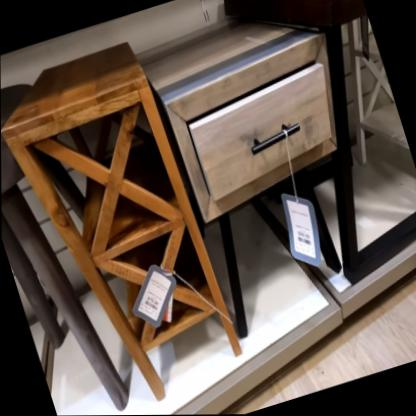Nightstand: (128, 0, 396, 336)
